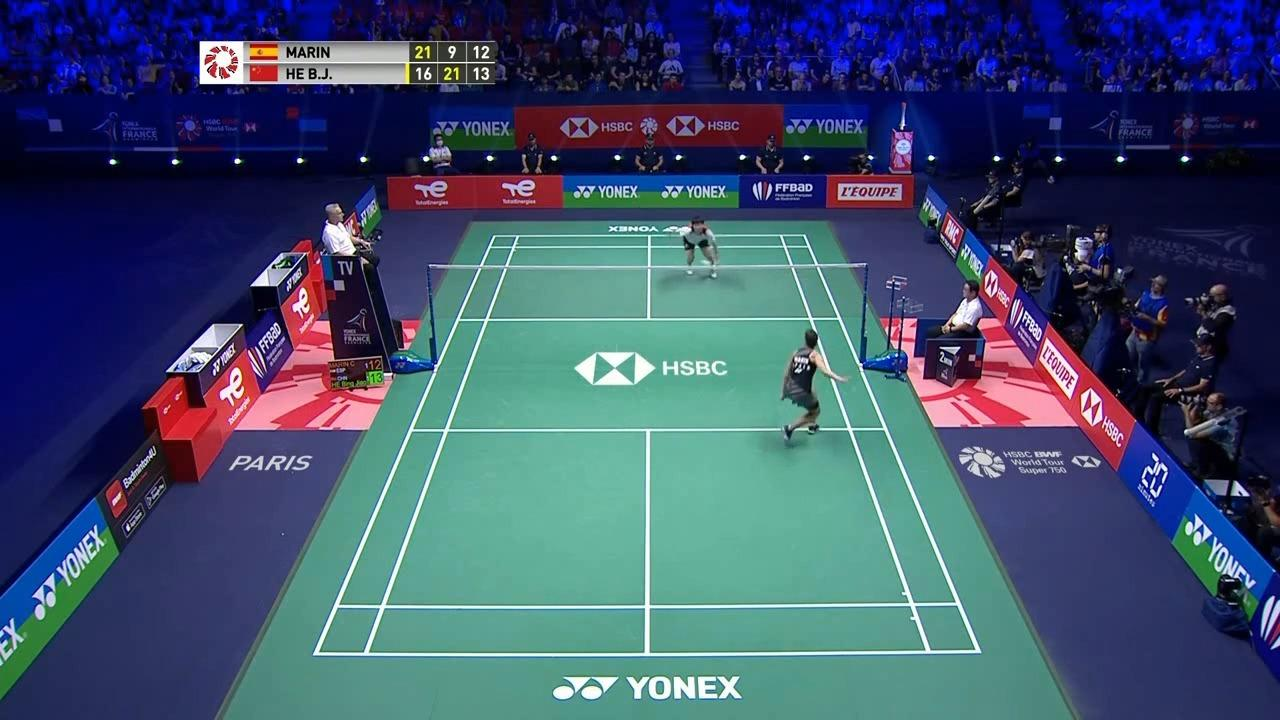shuttle: (698, 257, 713, 268)
